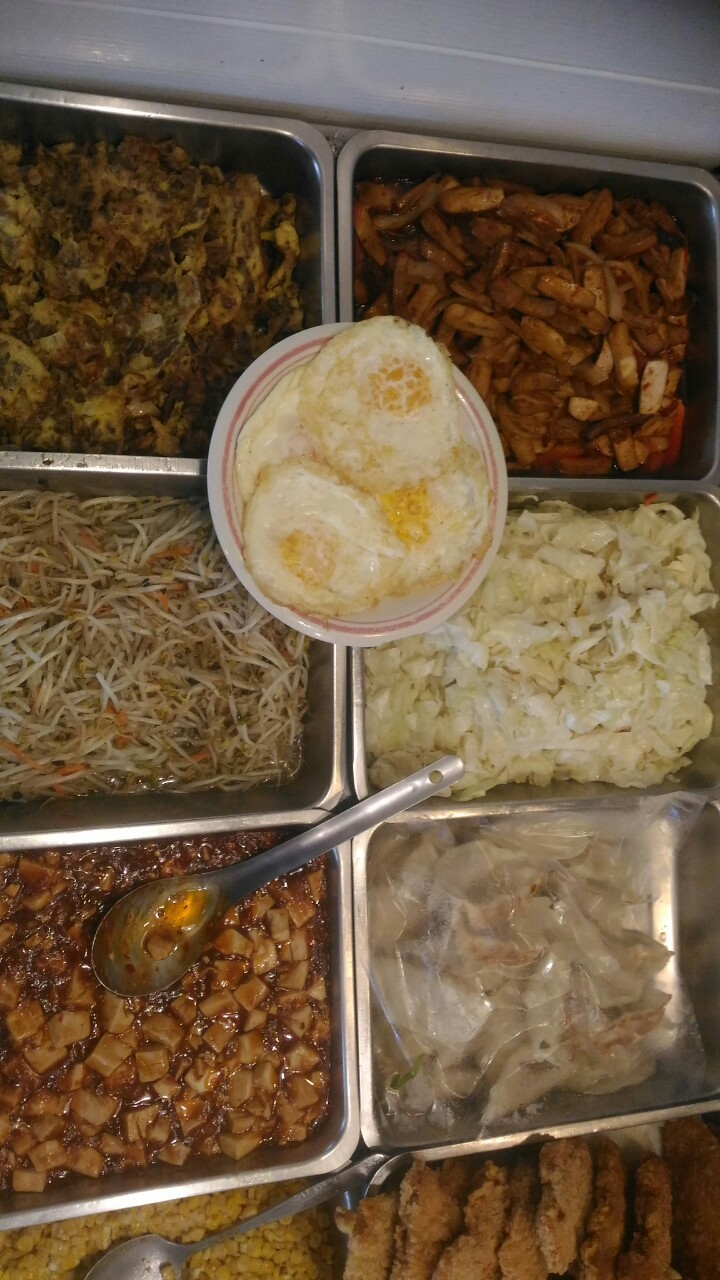chinese_cabbage: (370, 512, 712, 785)
fried_chicken: (365, 1135, 669, 1280)
fried_eggs: (233, 318, 500, 605)
mung_bean_sprouts: (5, 496, 318, 803)
